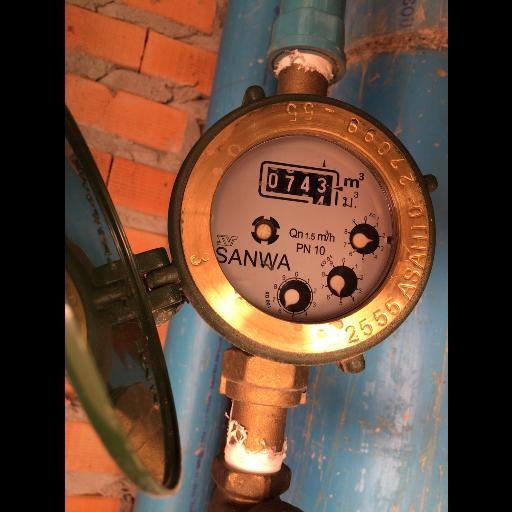0: (265, 167, 282, 194)
3: (311, 174, 333, 207)
4: (294, 171, 316, 198)
7: (279, 169, 298, 196)
border_water_meter_number: (256, 160, 342, 208)
